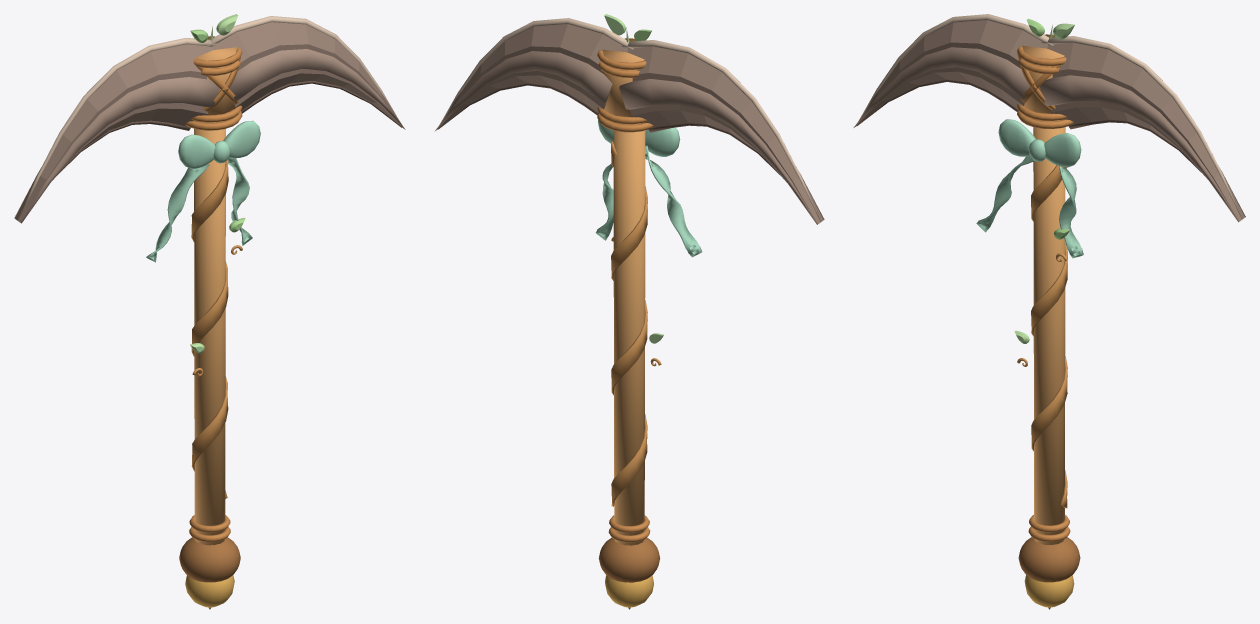
Rendered from RootflintPickaxe.glb.
3 renders of one model, left to right at view 1: azimuth 30°, elevation 25°; view 2: azimuth 150°, elevation 25°; view 3: azimuth 330°, elevation 25°, orthographic.
Visible parts, largest first — view 1: RootflintPickaxe_SmoothPlastic; view 2: RootflintPickaxe_SmoothPlastic; view 3: RootflintPickaxe_SmoothPlastic.
Part boxes in pixels (<box>): RootflintPickaxe_SmoothPlastic: <box>14,14,405,609</box>; RootflintPickaxe_SmoothPlastic: <box>434,14,824,609</box>; RootflintPickaxe_SmoothPlastic: <box>853,14,1245,609</box>.
Size of the model in its own units: 3.03 by 4.43 by 0.4436.
1 material, 1 textured.
